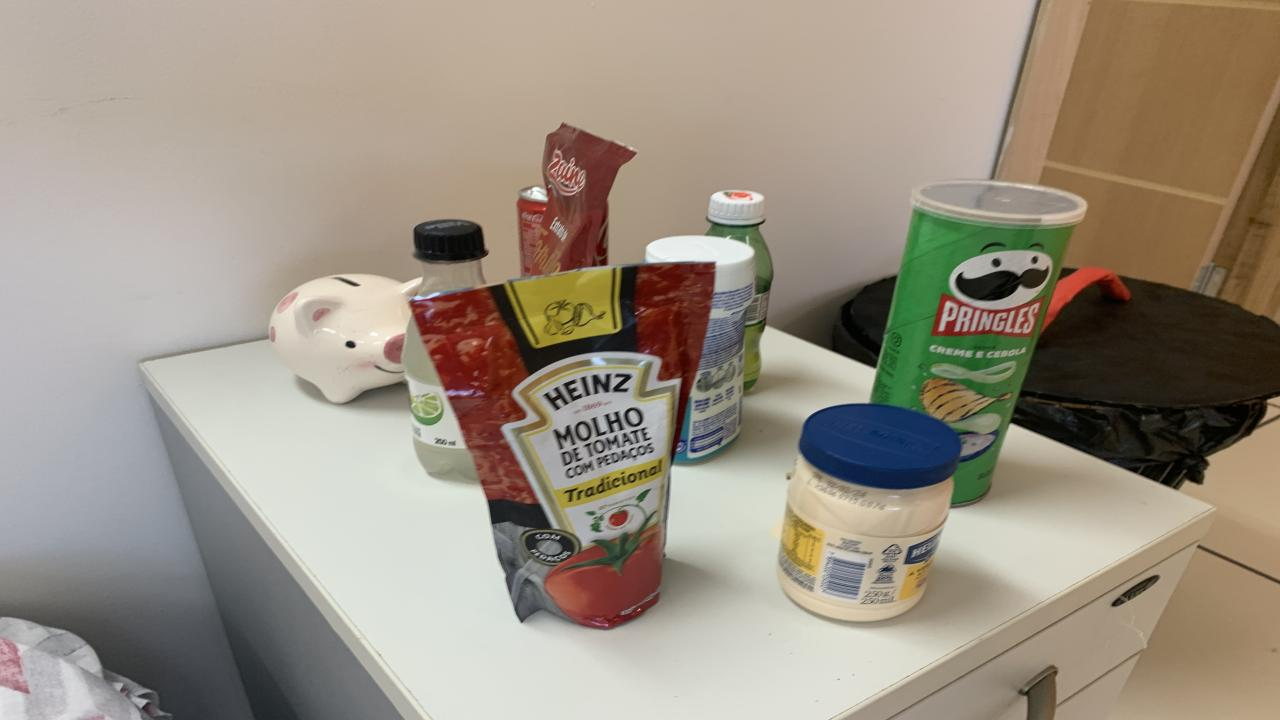Cleaner-Cleanup_Items: (645, 236, 755, 463)
Coke-Drinks: (518, 186, 548, 276)
Guarana-Drinks: (705, 189, 772, 390), (1250, 718, 1255, 720), (1232, 718, 1235, 720)
Mayonnaise-Pantry_Items: (778, 405, 960, 621)
Pig_Safe-Miscellaneous: (270, 274, 420, 403)
Pringles-Snacks: (872, 182, 1085, 502)
Soda-Drinks: (402, 319, 478, 480), (415, 219, 488, 298)
Tomato_Sauce-Pantry_Items: (412, 262, 715, 628), (522, 124, 635, 276)
